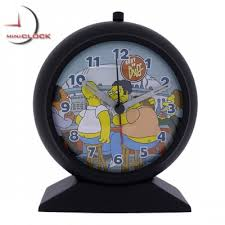alarm_clock: (32, 5, 197, 211), (41, 5, 197, 211)
